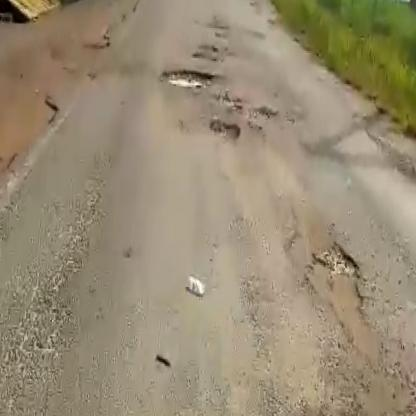pothole: (298, 244, 391, 372), (160, 66, 220, 87), (206, 115, 247, 141)
